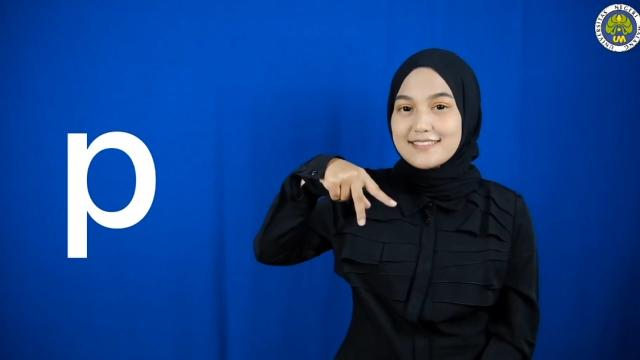P: (313, 155, 402, 229)
